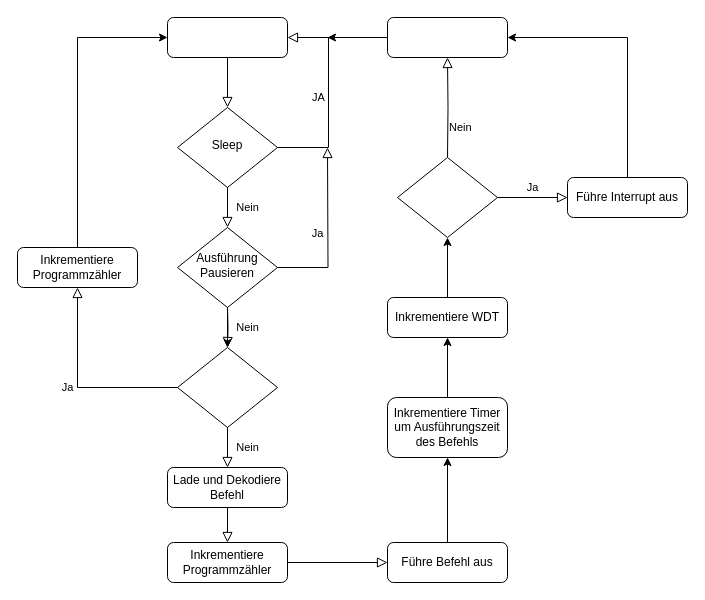
The diagram is 705 pixels wide and 600 high, and some of its shapes have lost their labels. The shapes that lost their labels are listed below. From the top down, each one's box as (x1, y1, x2, y2) in pixels, then its label:
(166, 16, 288, 58): Befehl auf den Programmzähler zeigt
(386, 16, 508, 58): Aktualisiere Oberfläche
(396, 156, 498, 238): Interrupts
(176, 346, 278, 428): Ignoriere Befehl
